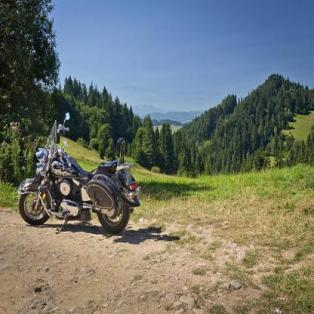Motocicleta: (11, 112, 142, 228)
